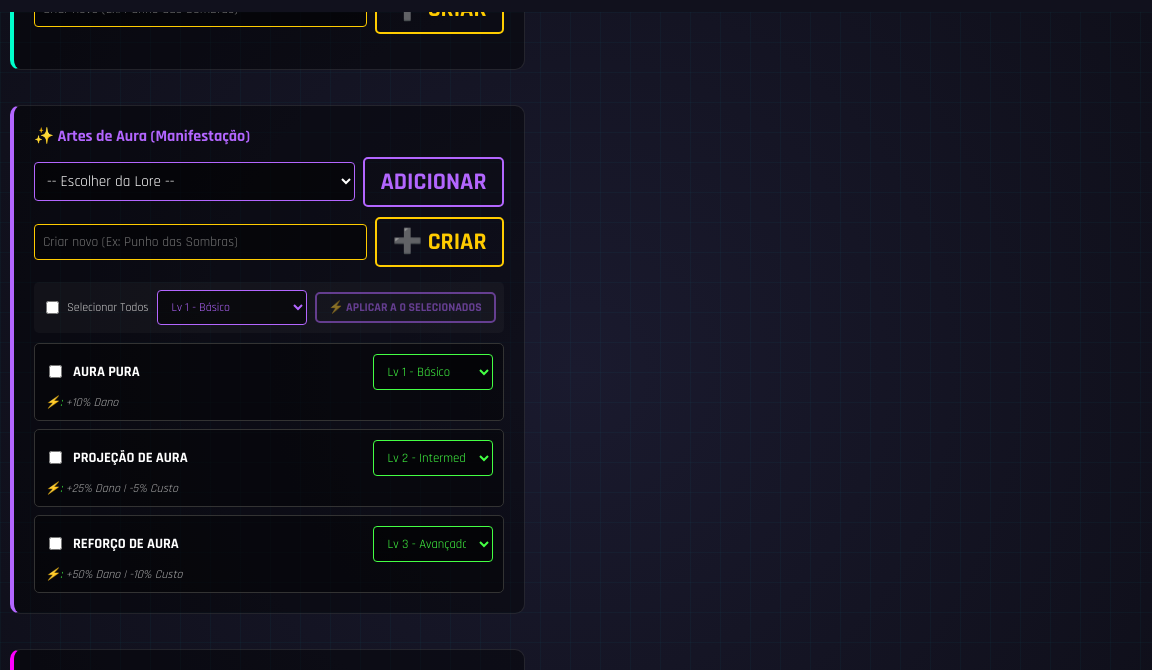
Test: AbaDominios — regressão: select individual de UM item › setar o nível de um item para 0 pelo select individual apaga o item E limpa a marcação em massa dele (limparMarcado)
The width and height of the screenshot is (1152, 670).
(page scrolled)
marca os dois pela evolução em massa
Click the checkbox labelled "AURA PURA": click(56, 372) [49,365,62,378]
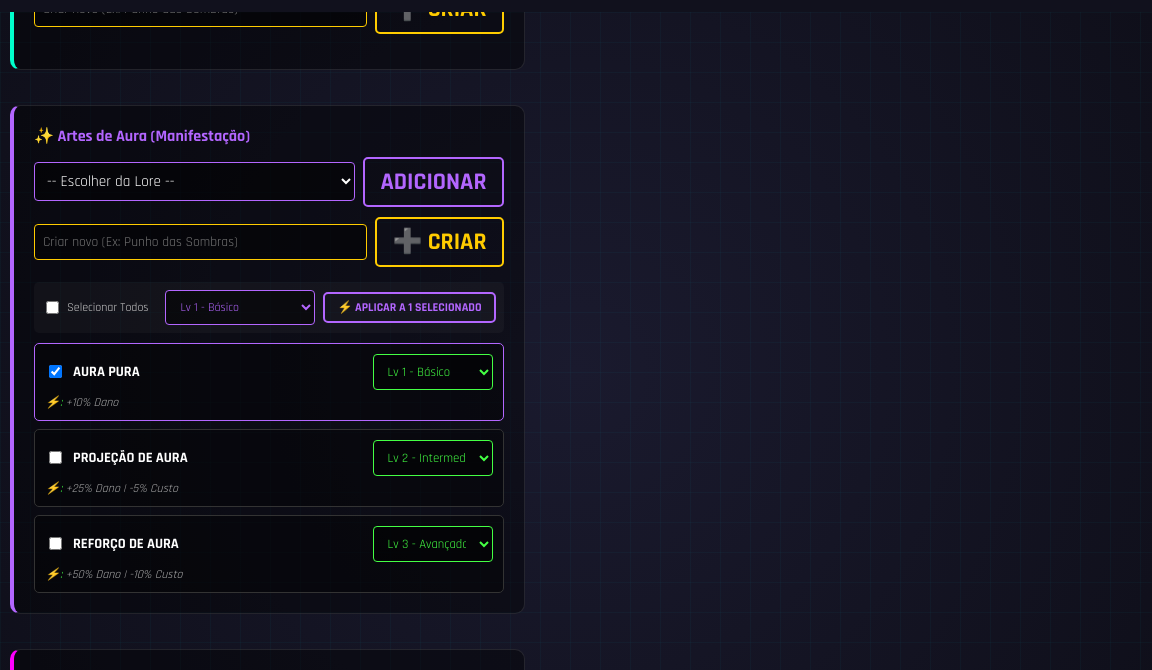
Click the checkbox labelled "PROJEÇÃO DE AURA": click(56, 458) [49,451,62,464]
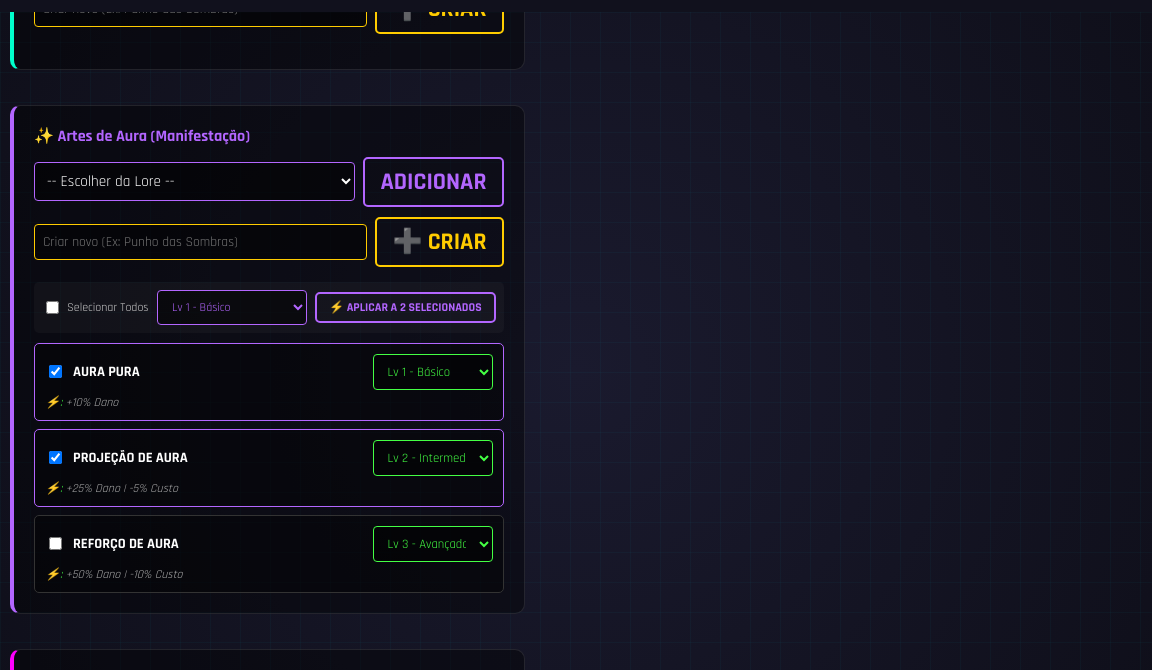
Expected: the button "⚡ APLICAR A 2 SELECIONADOS" is shown, [315,292,496,323]
apaga "Aura Pura" diretamente pelo select individual do item (nível 0)
Select "❌ Apagar" in the dropdown in the row of "AURA PURA": (433, 372) [373,354,493,390]
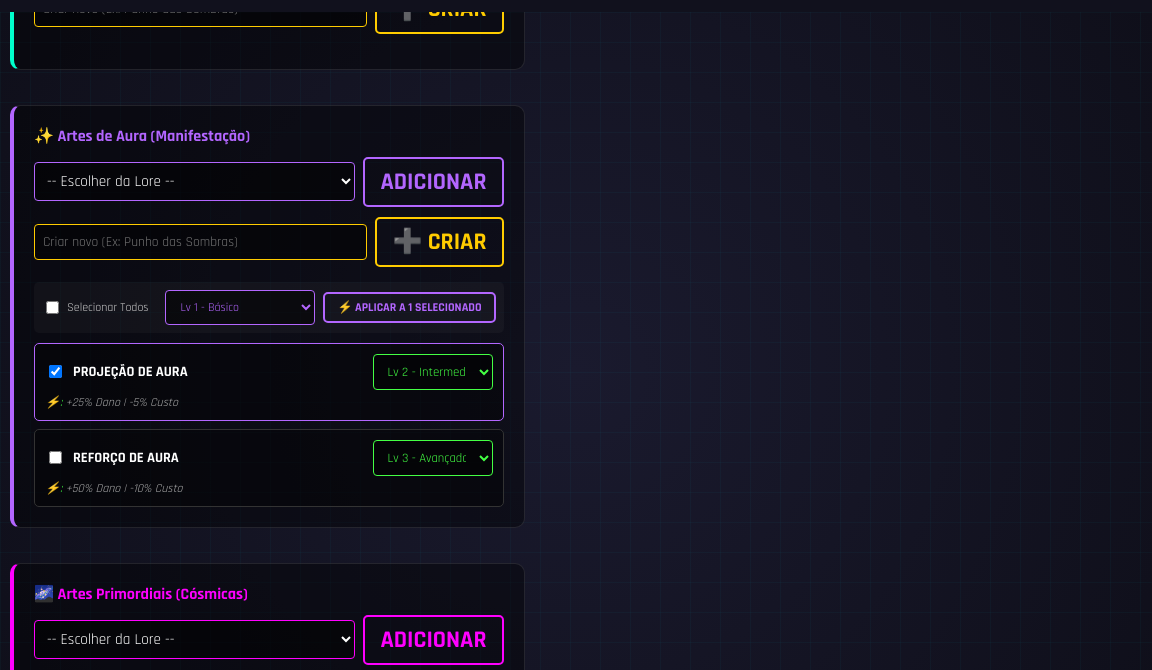
Expected: the button "⚡ APLICAR A 1 SELECIONADO" is shown, [323,292,496,323]
Expected: the button "APLICAR" no longer shows "SELECIONADOS"
